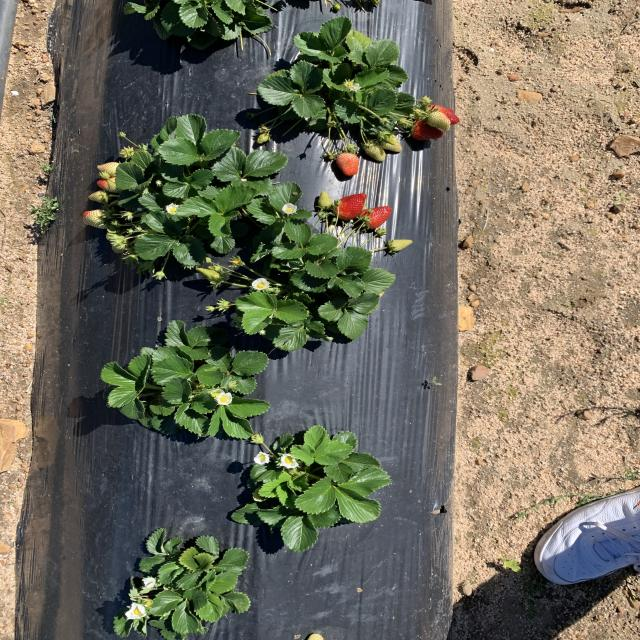unripe: (331, 192, 368, 220), (356, 204, 397, 228), (427, 104, 461, 125), (412, 122, 446, 140), (338, 153, 360, 177)
